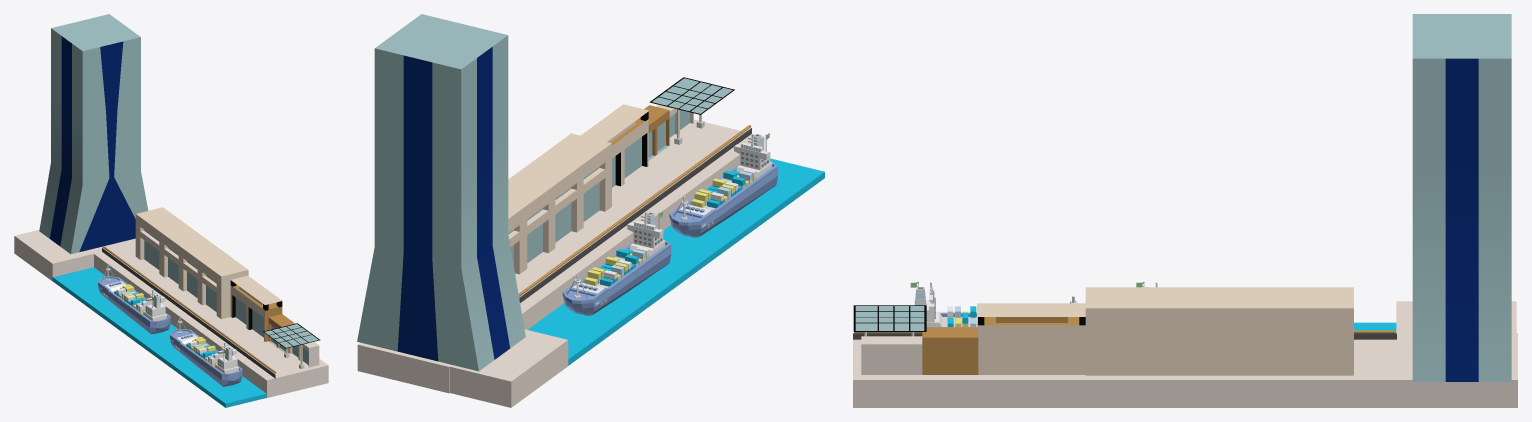
Rendered from marseille3.gltf.
3 renders of one model, left to right at view 1: azimuth 30°, elevation 25°; view 2: azimuth 150°, elevation 25°; view 3: azimuth 270°, elevation 25°, orthographic. The views are drawn at different scales.
Visible parts, largest first — view 1: Cube.11-Mat.1, sol (×2), Cube.11-Mat.2 (×2), Cube.10-Mat.5 (×2), Eau, bateau-mat14 (×2), bateau-mat21 (×2), Cube.10-Mat.1, bare noir, Plane.1-Mat.1, Plane, Cylinder (+6 smaller); view 2: Cube.11-Mat.1, sol (×2), Cube.11-Mat.2, Eau, Cube.10-Mat.5 (×2), bateau-mat14 (×2), bateau-mat21 (×2), Cube.10-Mat.1, bare noir, Plane.1-Mat.1, Plane, bateau-mat12 (×2) (+6 smaller); view 3: Cube.11-Mat.1, sol (×2), Cube.10-Mat.5, Cube.11-Mat.2, Cube.4-Mat.5, Cube.3-Mat.3, Cube.2-Mat.4, Plane.1-Mat.1, Plane, Cube.4-Mat.3, Plane.1-Mat.6, bare noir.
Boxes of the visible parts, <box> form: Cube.11-Mat.1: <box>39,14,148,254</box>; sol (×2): <box>14,230,328,397</box>; Cube.11-Mat.2 (×2): <box>50,36,135,251</box>; Cube.10-Mat.5 (×2): <box>135,207,248,319</box>; Eau: <box>52,267,266,407</box>; bateau-mat14 (×2): <box>98,276,242,386</box>; bateau-mat21 (×2): <box>105,281,238,373</box>; Cube.10-Mat.1: <box>144,230,216,311</box>; bare noir: <box>102,248,275,378</box>; Plane.1-Mat.1: <box>265,324,318,347</box>; Plane: <box>231,275,282,304</box>; Cylinder: <box>102,245,276,373</box>; Cube.11-Mat.1: <box>357,14,525,371</box>; sol (×2): <box>357,119,764,407</box>; Cube.11-Mat.2: <box>397,47,510,361</box>; Eau: <box>528,158,824,365</box>; Cube.10-Mat.5 (×2): <box>508,133,611,274</box>; bateau-mat14 (×2): <box>562,161,778,314</box>; bateau-mat21 (×2): <box>573,136,772,293</box>; Cube.10-Mat.1: <box>508,166,599,266</box>; bare noir: <box>519,128,751,302</box>; Plane.1-Mat.1: <box>652,78,732,113</box>; Plane: <box>581,104,648,141</box>; bateau-mat12 (×2): <box>584,175,756,285</box>; Cube.11-Mat.1: <box>1412,14,1511,381</box>; sol (×2): <box>853,301,1517,407</box>; Cube.10-Mat.5: <box>1085,287,1353,375</box>; Cube.11-Mat.2: <box>1445,58,1478,381</box>; Cube.4-Mat.5: <box>978,325,1085,374</box>; Cube.3-Mat.3: <box>922,327,978,374</box>; Cube.2-Mat.4: <box>861,336,922,374</box>; Plane.1-Mat.1: <box>855,306,924,330</box>; Plane: <box>977,303,1085,316</box>; Cube.4-Mat.3: <box>984,317,1079,325</box>; Plane.1-Mat.6: <box>853,305,926,331</box>; bare noir: <box>853,333,1396,339</box>.
Bounding box in the file's own units: 3.85 × 7.62 × 13.42.
